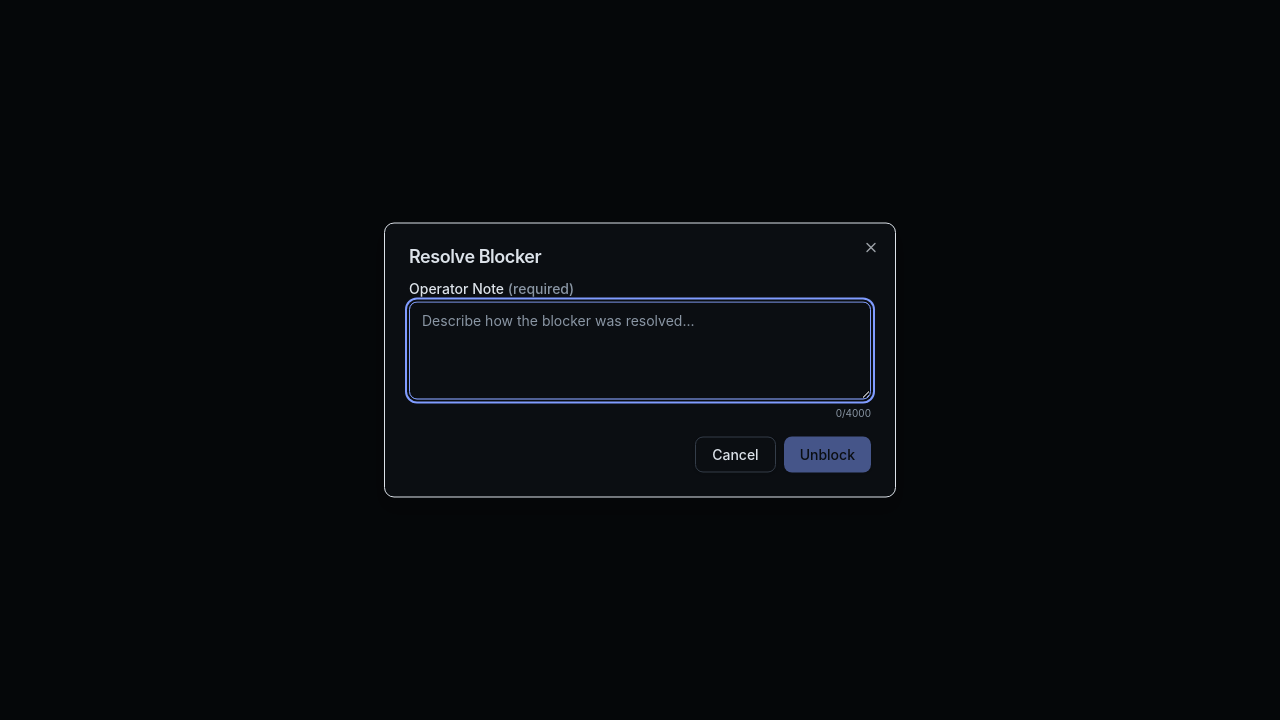
Test case: UnblockDialog › enables submit when note is non-empty
Type "Fixed config" into the text box at (640,350), box [409,302,871,400]
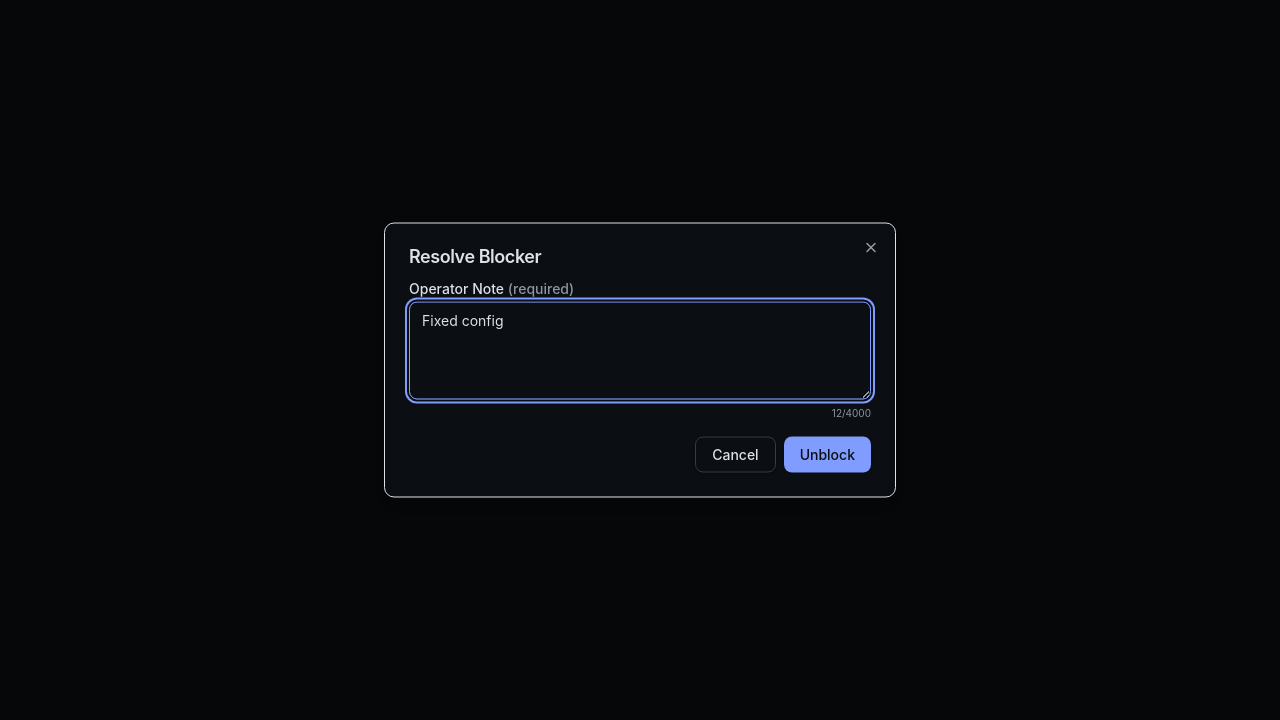
Check: the button "Unblock" is enabled, box [784,436,871,472]
